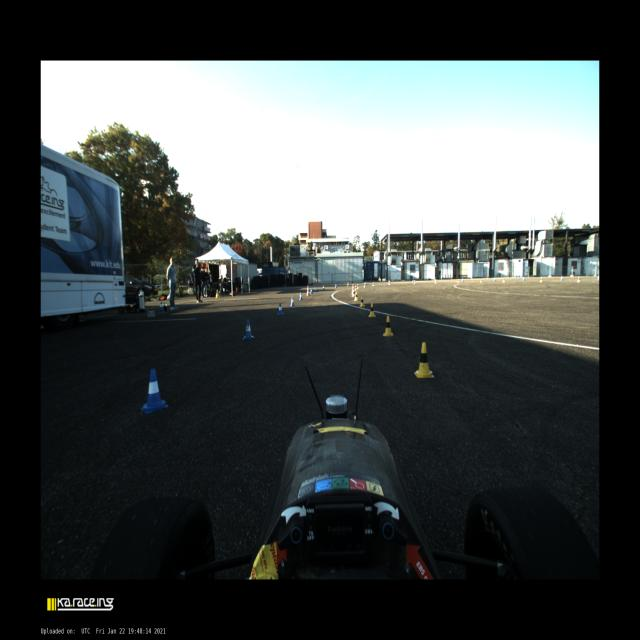blue_cone: (140, 369, 168, 413), (242, 319, 255, 340), (277, 303, 284, 316), (290, 296, 295, 306), (299, 292, 303, 300), (310, 288, 313, 294), (493, 276, 496, 282), (322, 285, 325, 290), (314, 286, 316, 292), (598, 275, 600, 281), (335, 283, 337, 288), (523, 276, 525, 281), (347, 282, 349, 286), (412, 280, 414, 284), (462, 278, 464, 282), (561, 276, 563, 280), (365, 281, 367, 285)
large_orange_cone: (306, 285, 310, 296), (352, 283, 354, 293)
yellow_cone: (414, 342, 434, 378), (382, 315, 393, 336), (368, 303, 376, 317), (360, 297, 365, 307), (354, 292, 358, 301), (352, 289, 355, 297), (539, 277, 543, 283), (502, 277, 505, 283), (457, 278, 460, 283), (388, 280, 391, 285), (355, 284, 357, 290), (578, 276, 580, 282), (363, 283, 365, 288), (480, 278, 482, 283), (435, 279, 437, 284), (357, 284, 359, 289), (372, 282, 374, 286), (414, 280, 415, 284)
